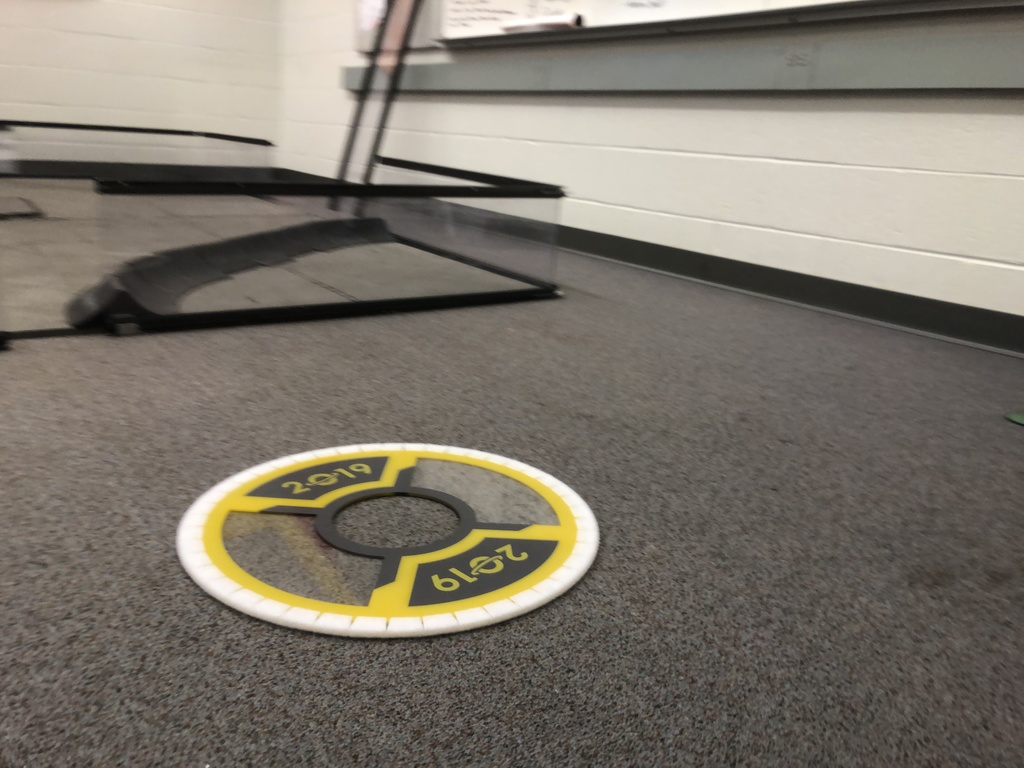hatch_panel: (167, 428, 605, 650)
